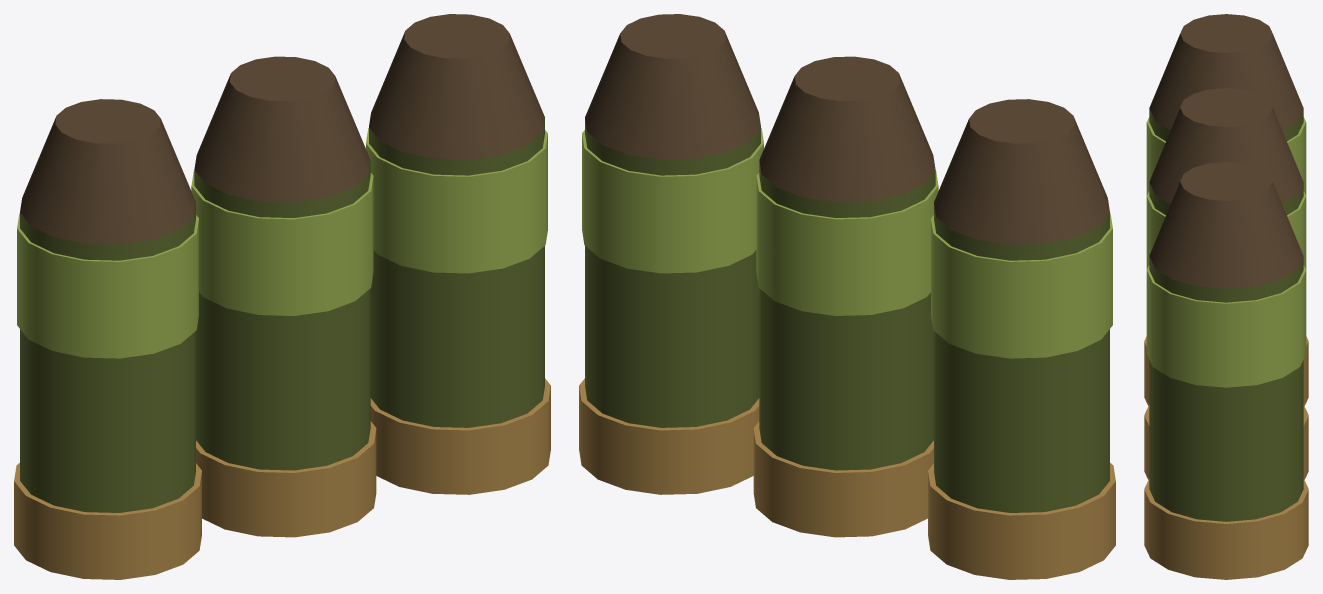
Rendered from item.ammunition.spore_cartridge.glb.
3 views of the same model, side by side, from view 1: azimuth 30°, elevation 25°; view 2: azimuth 150°, elevation 25°; view 3: azimuth 270°, elevation 25° (orthographic). The views are drawn at different scales.
Visible parts, largest first — view 1: _MeshInstance3D_3, _MeshInstance3D_7, _MeshInstance3D_11, _MeshInstance3D_13, _MeshInstance3D_9, _MeshInstance3D_5, _MeshInstance3D_4, _MeshInstance3D_8, _MeshInstance3D_12, _MeshInstance3D_2, _MeshInstance3D_10, _MeshInstance3D_6; view 2: _MeshInstance3D_3, _MeshInstance3D_7, _MeshInstance3D_11, _MeshInstance3D_13, _MeshInstance3D_9, _MeshInstance3D_5, _MeshInstance3D_4, _MeshInstance3D_8, _MeshInstance3D_12, _MeshInstance3D_2, _MeshInstance3D_10, _MeshInstance3D_6; view 3: _MeshInstance3D_11, _MeshInstance3D_13, _MeshInstance3D_12, _MeshInstance3D_5, _MeshInstance3D_9, _MeshInstance3D_10, _MeshInstance3D_8, _MeshInstance3D_4, _MeshInstance3D_6, _MeshInstance3D_2, _MeshInstance3D_3, _MeshInstance3D_7.
Boxes of the visible parts, x1=… form: _MeshInstance3D_3: x1=20, y1=205, x2=195, y2=512; _MeshInstance3D_7: x1=194, y1=161, x2=370, y2=470; _MeshInstance3D_11: x1=369, y1=119, x2=544, y2=427; _MeshInstance3D_13: x1=369, y1=14, x2=544, y2=159; _MeshInstance3D_9: x1=194, y1=56, x2=370, y2=201; _MeshInstance3D_5: x1=20, y1=99, x2=195, y2=244; _MeshInstance3D_4: x1=17, y1=213, x2=198, y2=358; _MeshInstance3D_8: x1=191, y1=171, x2=373, y2=315; _MeshInstance3D_12: x1=366, y1=128, x2=547, y2=273; _MeshInstance3D_2: x1=14, y1=463, x2=201, y2=579; _MeshInstance3D_10: x1=370, y1=378, x2=550, y2=494; _MeshInstance3D_6: x1=196, y1=421, x2=376, y2=537; _MeshInstance3D_3: x1=934, y1=205, x2=1109, y2=512; _MeshInstance3D_7: x1=759, y1=161, x2=935, y2=470; _MeshInstance3D_11: x1=585, y1=119, x2=760, y2=427; _MeshInstance3D_13: x1=585, y1=14, x2=760, y2=159; _MeshInstance3D_9: x1=759, y1=56, x2=935, y2=201; _MeshInstance3D_5: x1=934, y1=99, x2=1109, y2=244; _MeshInstance3D_4: x1=931, y1=213, x2=1112, y2=358; _MeshInstance3D_8: x1=756, y1=171, x2=938, y2=315; _MeshInstance3D_12: x1=582, y1=128, x2=763, y2=273; _MeshInstance3D_2: x1=928, y1=463, x2=1115, y2=579; _MeshInstance3D_10: x1=579, y1=378, x2=759, y2=494; _MeshInstance3D_6: x1=753, y1=421, x2=933, y2=537; _MeshInstance3D_11: x1=1149, y1=256, x2=1303, y2=521; _MeshInstance3D_13: x1=1149, y1=162, x2=1303, y2=288; _MeshInstance3D_12: x1=1146, y1=265, x2=1306, y2=387; _MeshInstance3D_5: x1=1149, y1=14, x2=1303, y2=129; _MeshInstance3D_9: x1=1149, y1=88, x2=1303, y2=203; _MeshInstance3D_10: x1=1144, y1=479, x2=1308, y2=579; _MeshInstance3D_8: x1=1146, y1=191, x2=1306, y2=269; _MeshInstance3D_4: x1=1146, y1=117, x2=1306, y2=195; _MeshInstance3D_6: x1=1144, y1=405, x2=1308, y2=479; _MeshInstance3D_2: x1=1144, y1=336, x2=1308, y2=405; _MeshInstance3D_3: x1=1149, y1=109, x2=1303, y2=141; _MeshInstance3D_7: x1=1149, y1=183, x2=1303, y2=214.
Bounding box in the file's own units: 1.2 × 0.936 × 0.384.
